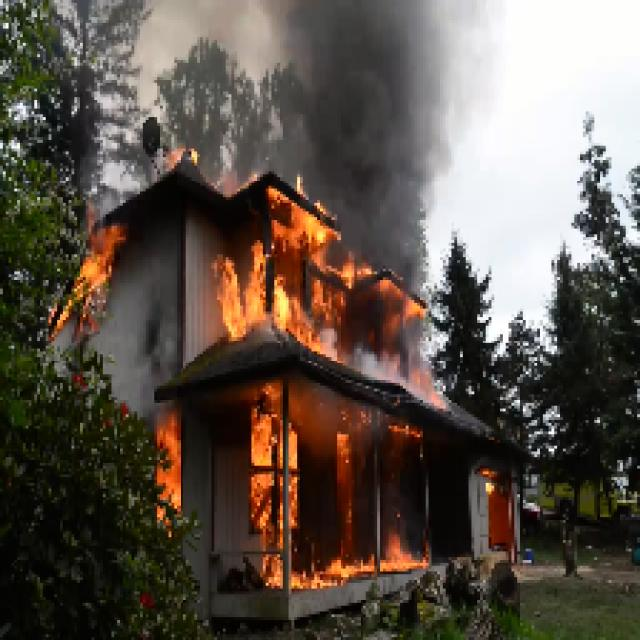fire: (220, 194, 350, 338), (256, 420, 300, 528)
smoke: (304, 15, 429, 222), (103, 306, 163, 399)
